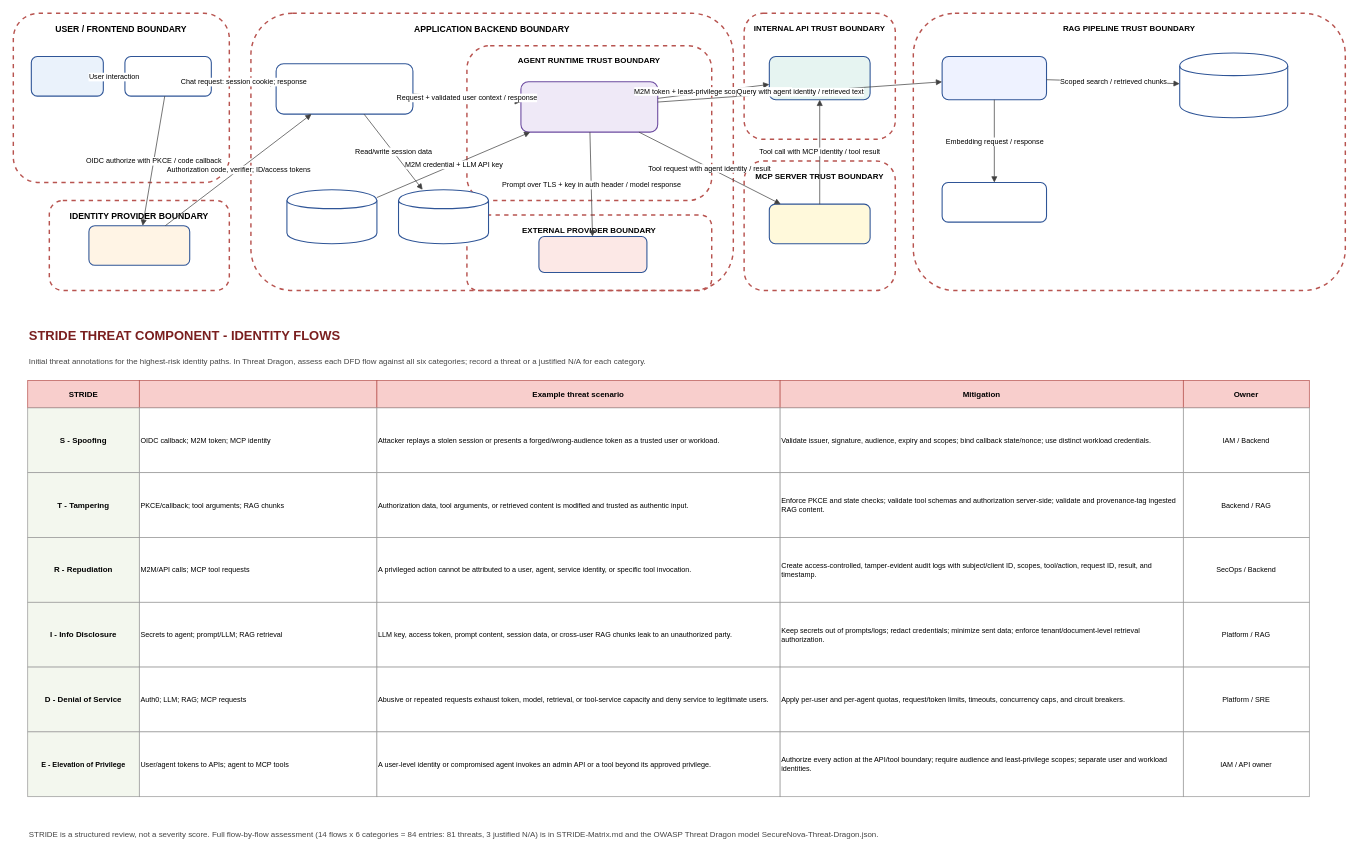
Some shapes in this 1358 by 864 pixel diagram are drawn without their labels. Here are the shapes that lost their labels. From the top down, the centre of each, then its label:
the point at 67,76: User
the point at 168,76: User Interface
the point at 344,88: Chatbot Backend Endpoint
the point at 819,78: Internal REST APIs
the point at 994,78: RAG Service
the point at 1233,85: Vector Store
the point at 589,106: AI Chatbot Harness
the point at 331,216: Secrets Manager
the point at 443,216: Chat Session DB
the point at 994,202: Embedding Service
the point at 819,223: MCP Server
the point at 139,245: Auth0 Tenant
the point at 592,254: LLM Provider
the point at 258,394: Identity flow / asset
